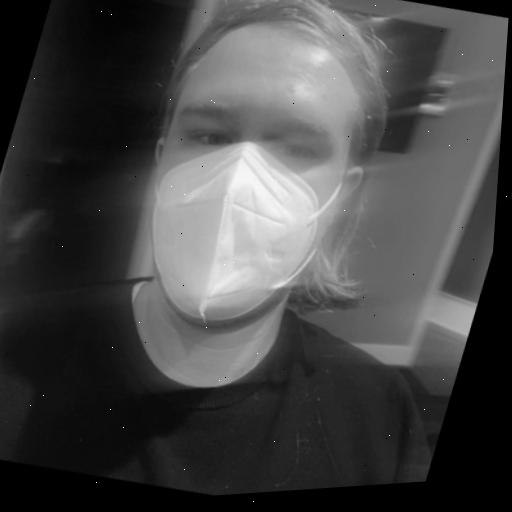mask: (78, 0, 448, 387)
